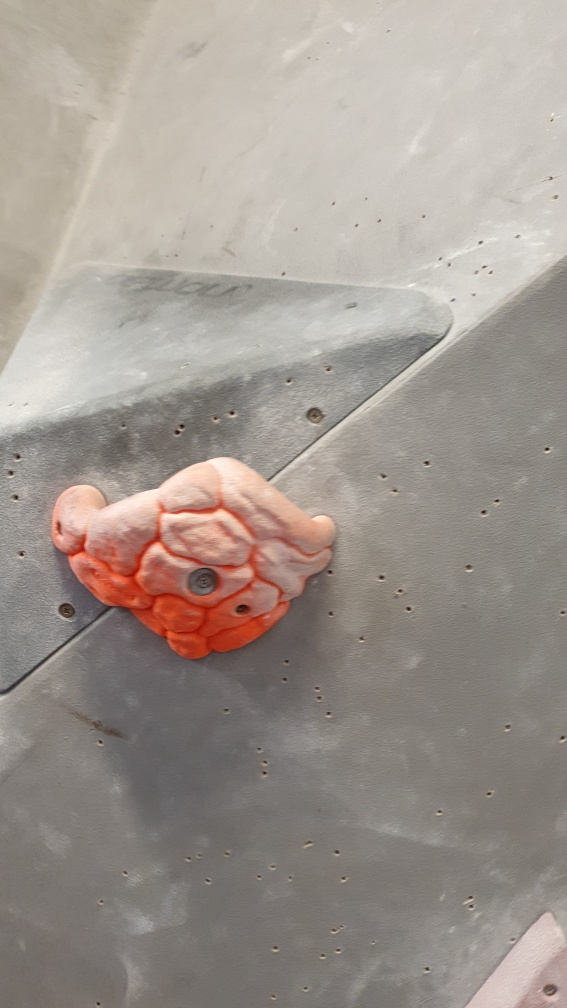Jug: (51, 453, 341, 665)
